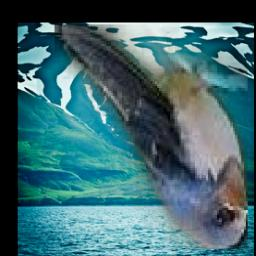Swallow: (55, 24, 249, 249)
